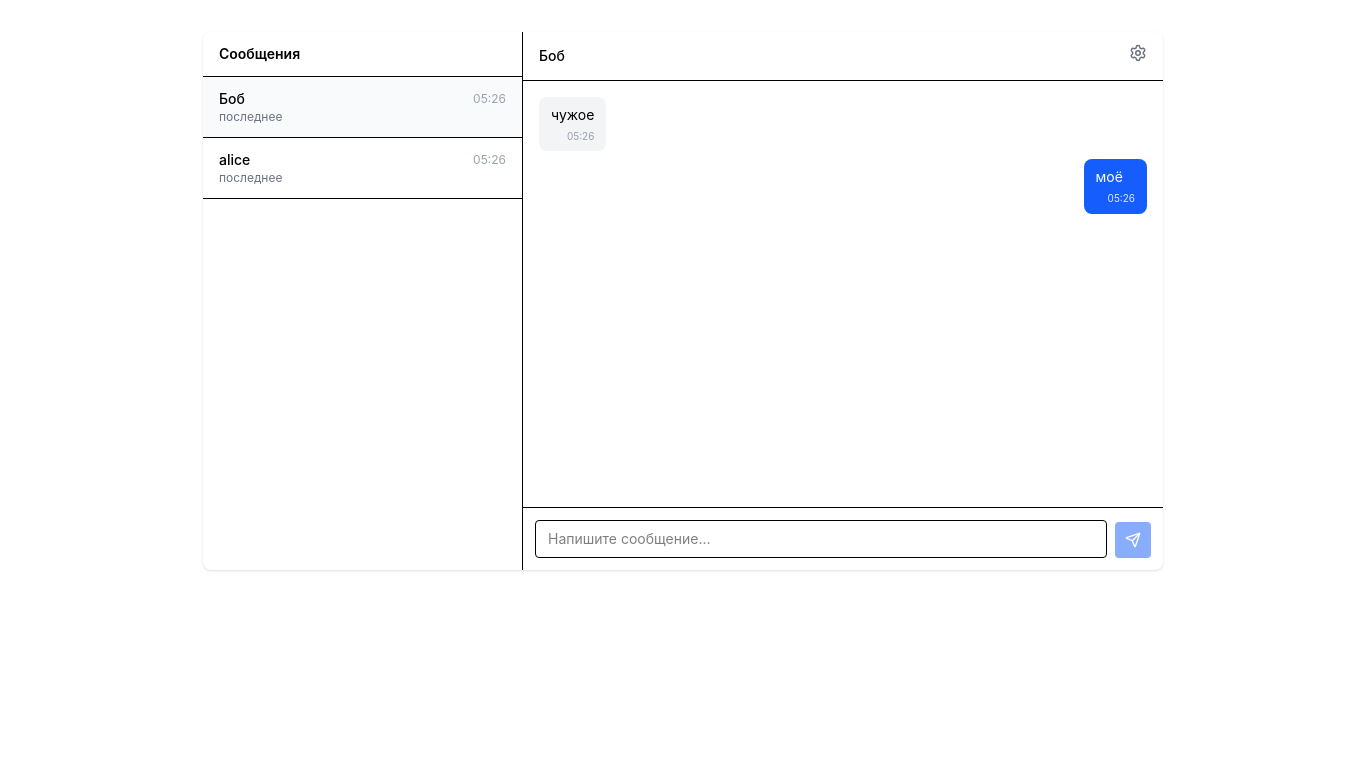
it: MessagesPage: пересылка › «Переслать» открывает окно со списком диалогов и превью сообщения
What coordinates should you click on to do the following:
click the text "чужое"
I would click on:
 (573, 115)
Its box is [551, 105, 594, 125].
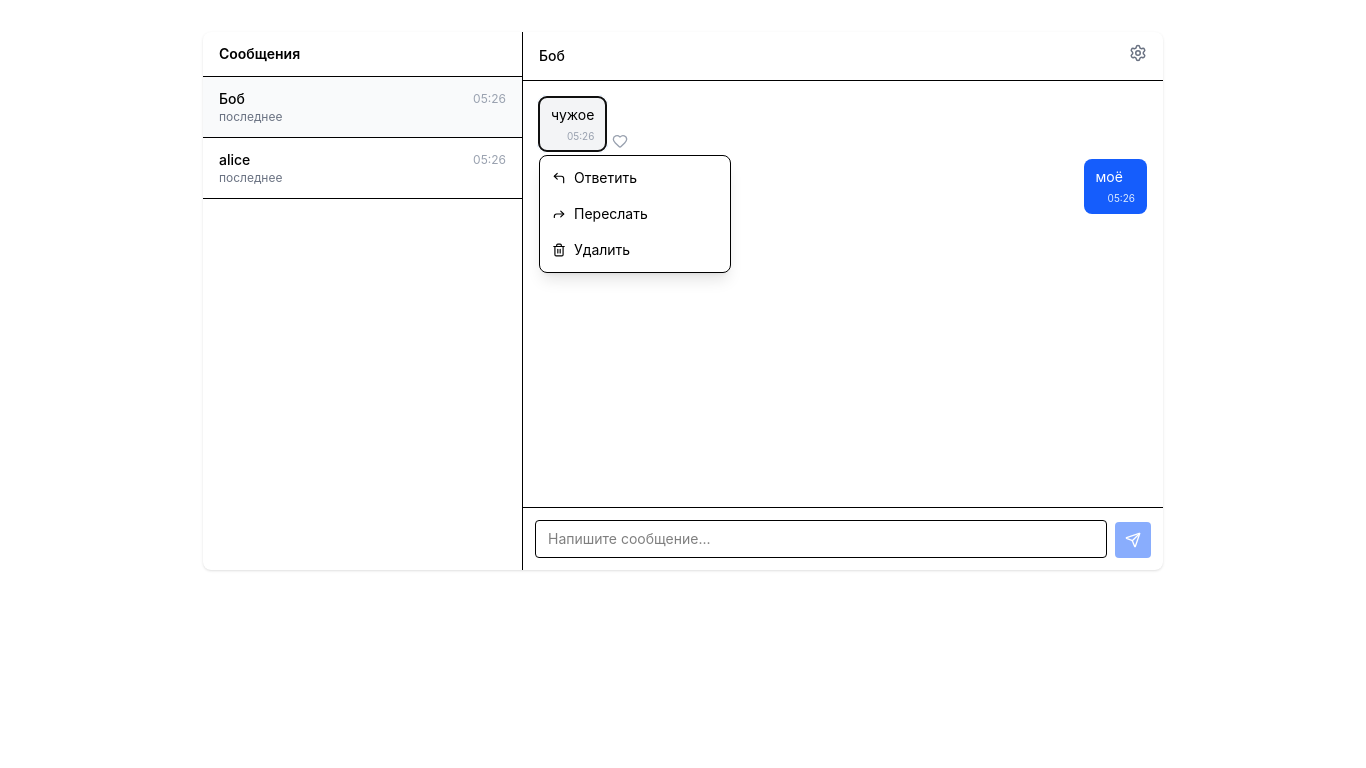
What coordinates should you click on to do the following:
click the menu item "Переслать"
I would click on:
 (635, 214)
Its box is [540, 196, 730, 232].
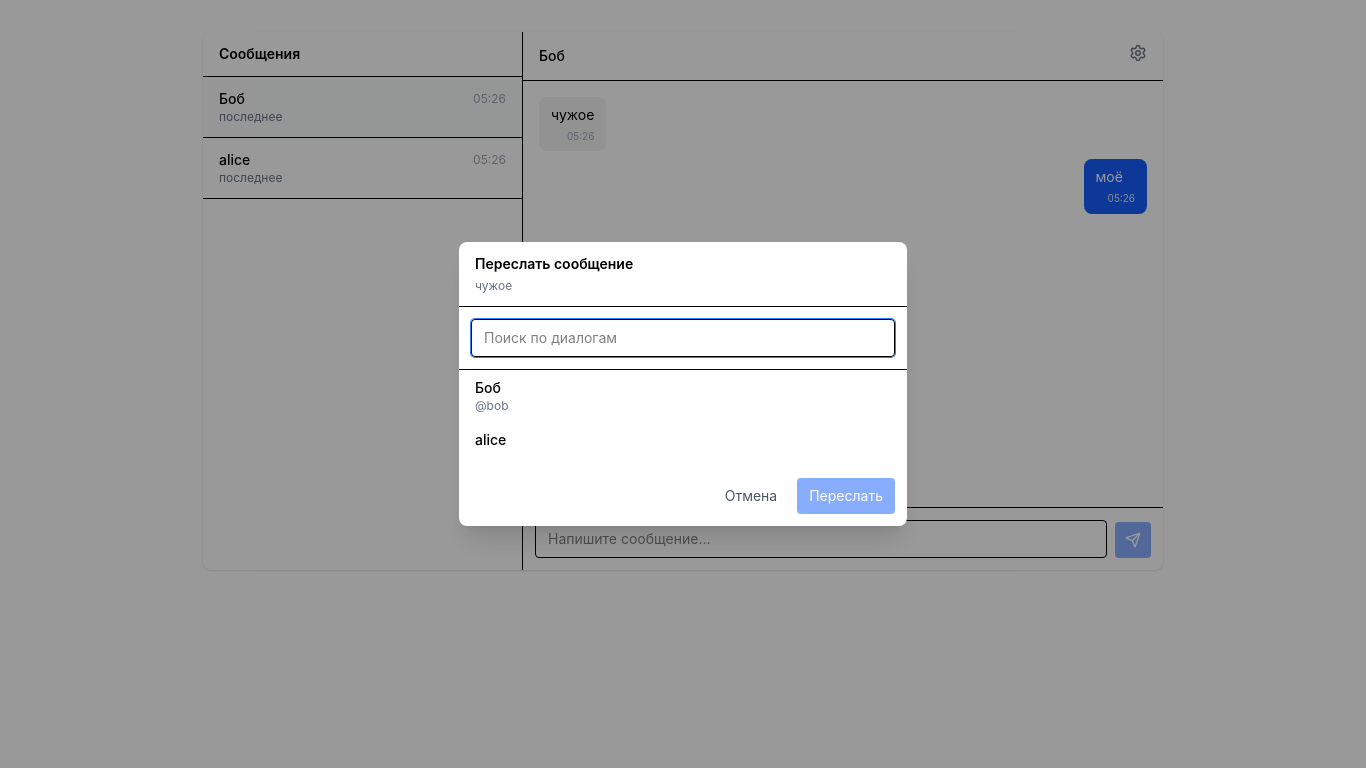
Expected: the text "чужое" is shown, [475, 278, 512, 293]
Expected: the radio button labelled "alice" is shown, [459, 422, 907, 458]
Expected: the radio button labelled "Боб @bob" is shown, [459, 370, 907, 422]
